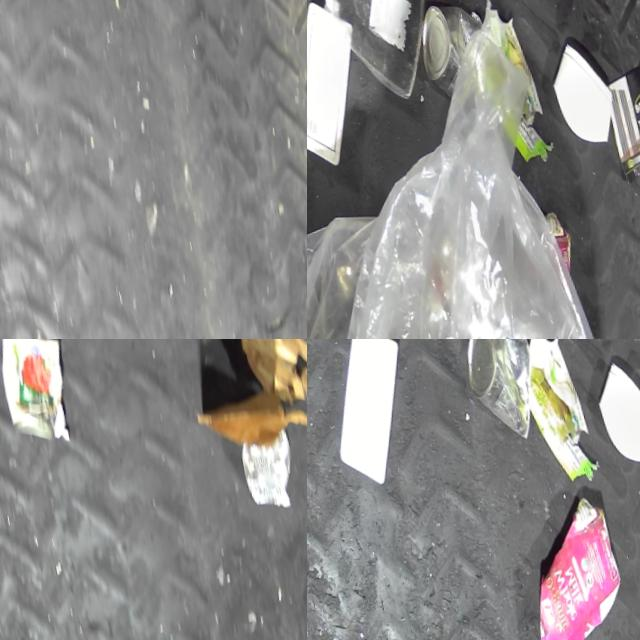can: (458, 339, 551, 448), (0, 339, 82, 447), (414, 0, 497, 100), (236, 418, 307, 523)
milk_jug: (312, 339, 428, 491), (307, 0, 385, 173)
